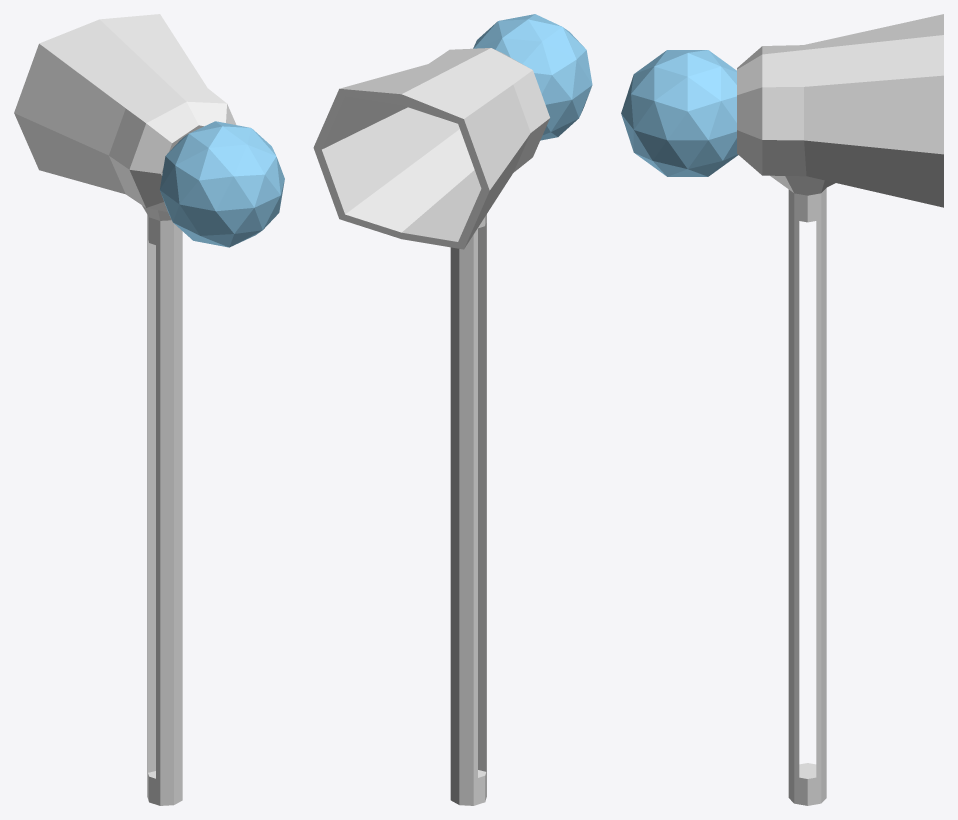
File: LightScoop.fbx
3 views of the same model, side by side, from view 1: azimuth 30°, elevation 25°; view 2: azimuth 150°, elevation 25°; view 3: azimuth 270°, elevation 25° (orthographic). The views are drawn at different scales.
Visible parts, largest first — view 1: Cylinder, Icosphere; view 2: Cylinder, Icosphere; view 3: Cylinder, Icosphere.
Boxes of the visible parts, box(x1,y1,x2,y2) form: Cylinder: box(14, 14, 236, 805); Icosphere: box(160, 121, 284, 247); Cylinder: box(313, 48, 549, 805); Icosphere: box(473, 14, 592, 140); Cylinder: box(737, 14, 943, 805); Icosphere: box(621, 50, 737, 176).
Bounding box in the file's own units: 32.11 × 131 × 50.3.
